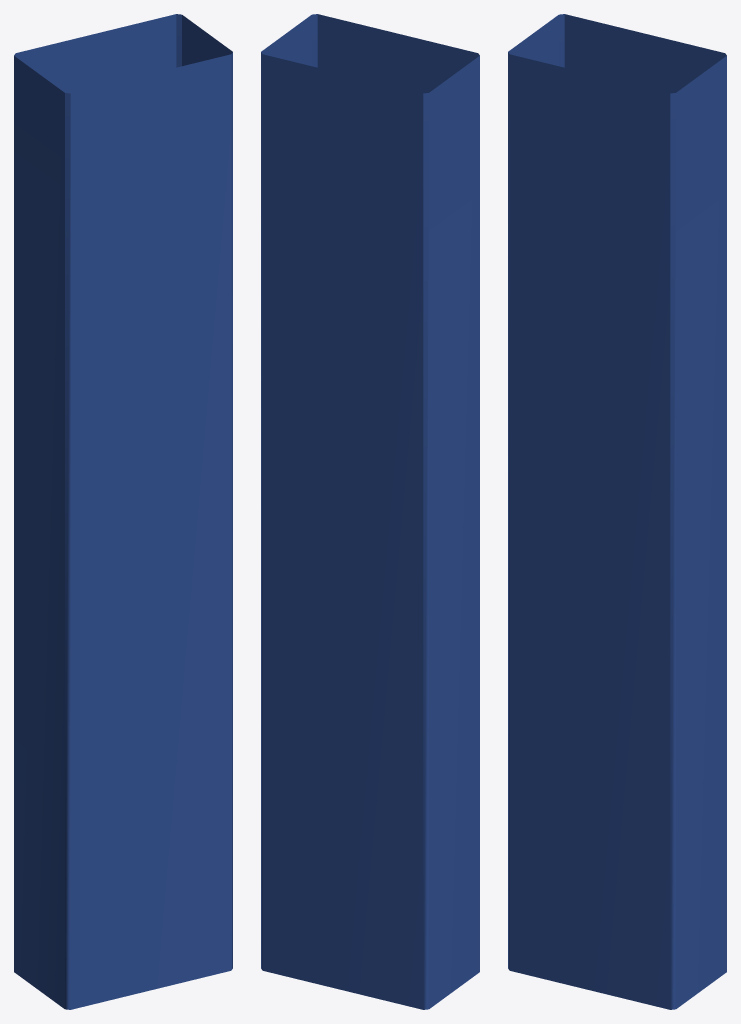
Rendered from SM_Pillar_Middle_02.fbx.
The picture shows the model from 3 angles, left to right: view 1: azimuth 30°, elevation 25°; view 2: azimuth 150°, elevation 25°; view 3: azimuth 330°, elevation 25°; orthographic projection.
Visible parts, largest first — view 1: SM_Pillar_Middle_02; view 2: SM_Pillar_Middle_02; view 3: SM_Pillar_Middle_02.
Part boxes in pixels (bbox=[...]): SM_Pillar_Middle_02: bbox=[14, 14, 232, 1009]; SM_Pillar_Middle_02: bbox=[261, 14, 479, 1009]; SM_Pillar_Middle_02: bbox=[508, 14, 726, 1009].
Size of the model in its own units: 454 by 2365 by 257.
